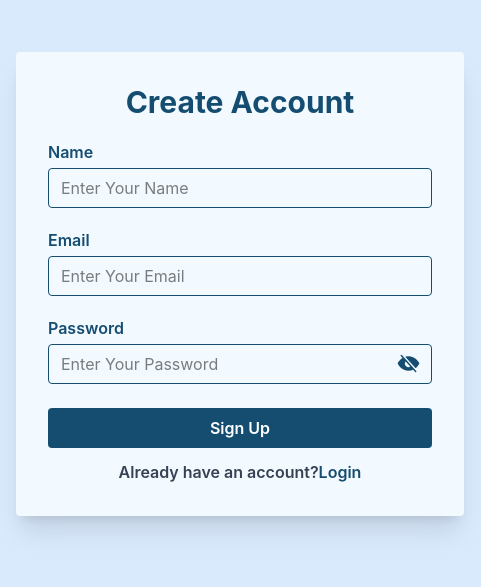
SignUp › shows validation errors on empty submit
The width and height of the screenshot is (481, 587).
Click the button "Sign Up" at (240, 428), box x1=48 y1=408 x2=432 y2=448
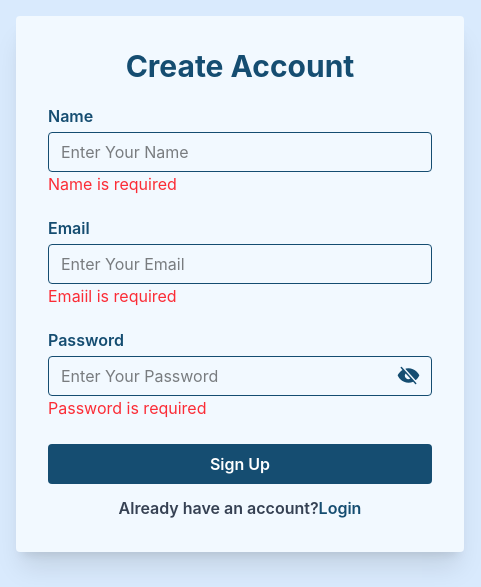
Now the text "Name is required" is shown, box x1=48 y1=174 x2=177 y2=194
Now the text "Emaiil is required" is shown, box x1=48 y1=286 x2=177 y2=306
Now the text "Password is required" is shown, box x1=48 y1=398 x2=206 y2=418
